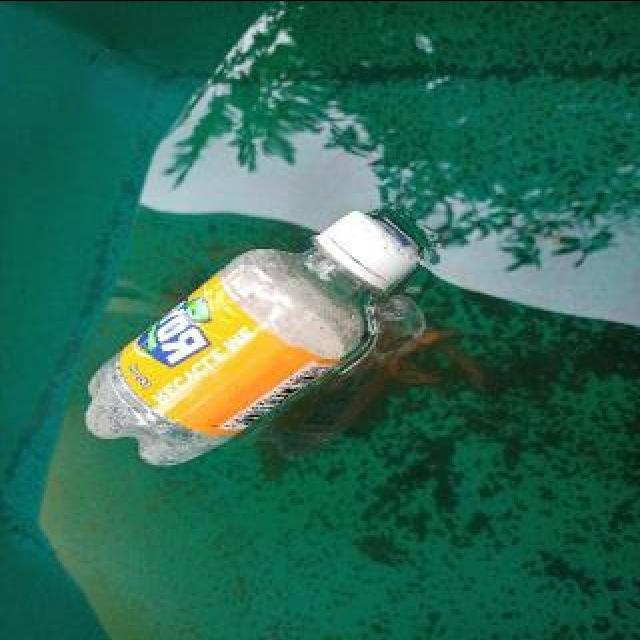Bottle: (84, 205, 424, 468)
